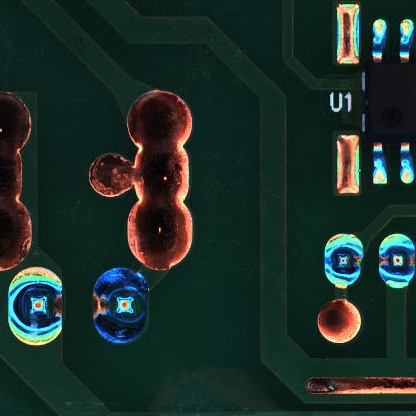spot: (7, 267, 65, 347), (91, 267, 150, 345), (323, 234, 362, 288), (379, 233, 416, 287)
